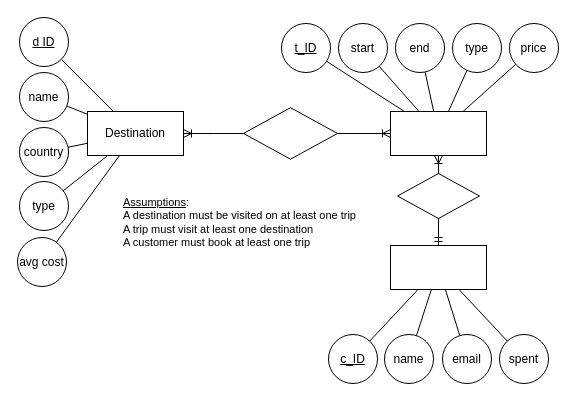
Image size: 576x401. Some labels were removed from this diagram. Each missing label, with the centre of its shape:
"Customer" belongs at (x=438, y=267).
"taken by" belongs at (x=438, y=195).
"Trip" belongs at (x=438, y=133).
"Visited on" belongs at (x=290, y=133).
